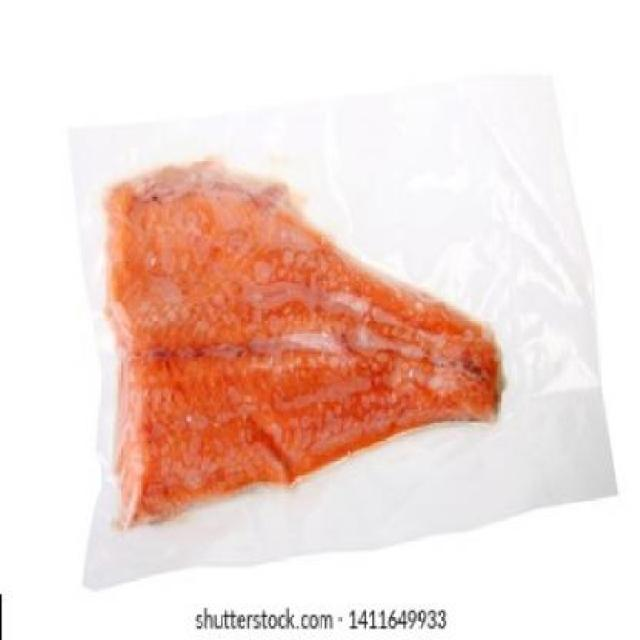salmon: (94, 137, 514, 528)
